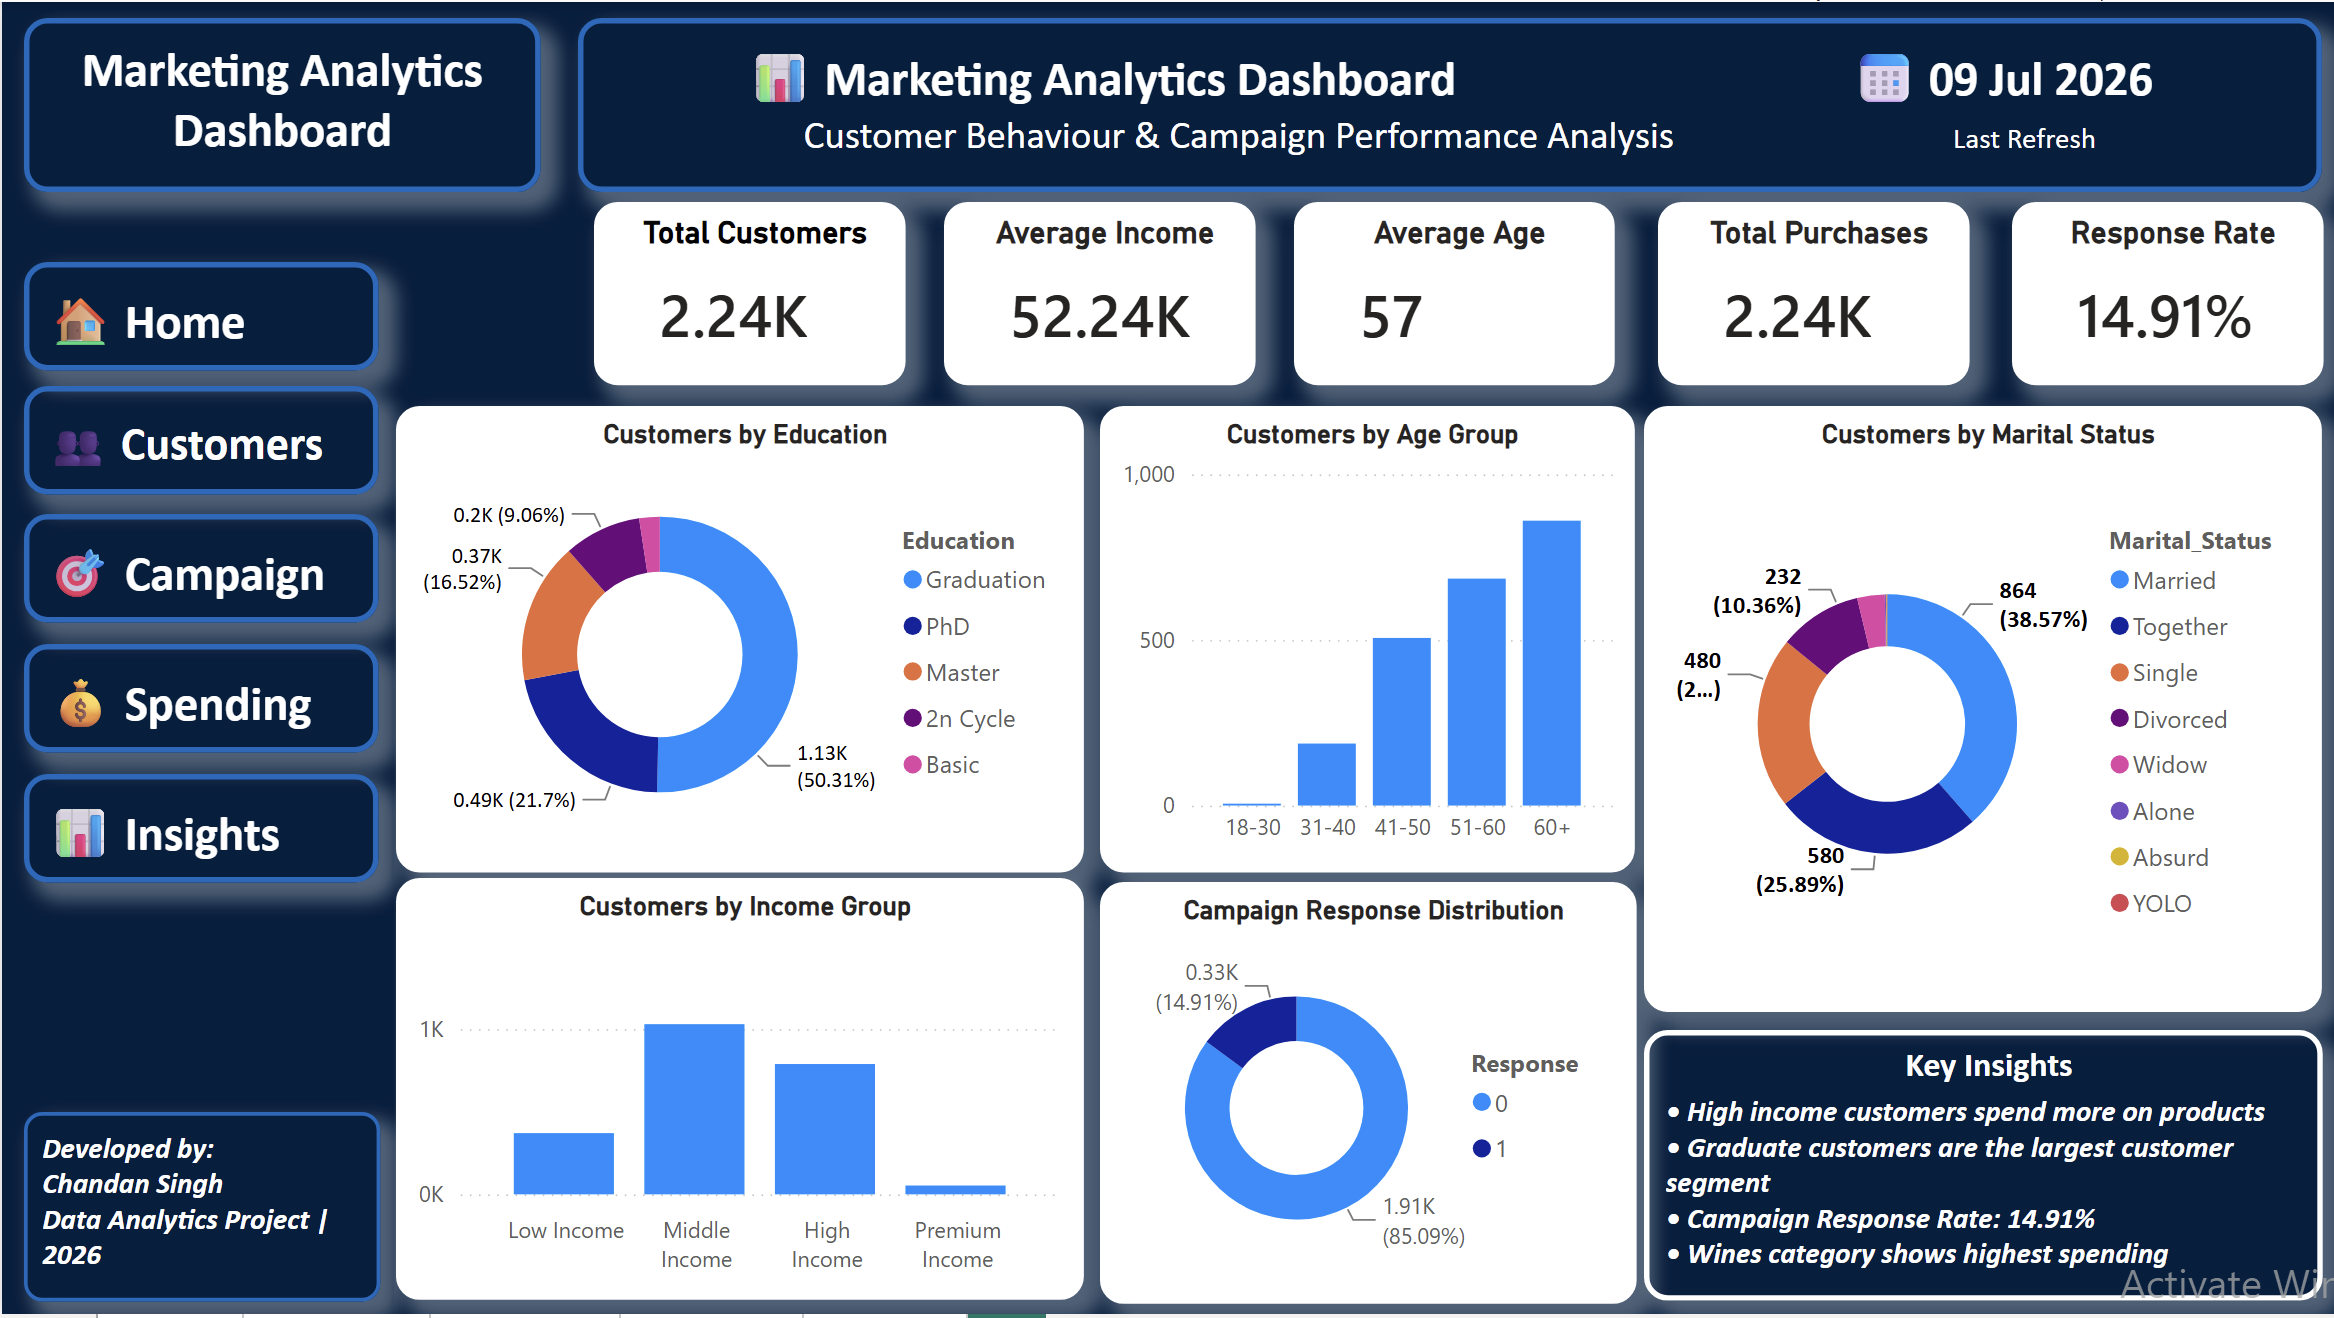

What the dashboard file says about the page in this screenshot:
{"tool":"powerbi","page":{"name":"Customer","canvas":[1280,720],"ordinal":1},"visuals":[{"type":"cardVisual","title":"Total Customers","fields":{"Data":["CountNonNull(marketing_campaign.Dt_Customer)"]},"box":[324.3,110.2,171,100.3],"z":0},{"type":"cardVisual","title":"Average Income","fields":{"Data":["Avg(marketing_campaign.Income)"]},"box":[517.4,110.2,171,100.3],"z":1000},{"type":"cardVisual","title":"Average Age","fields":{"Data":["marketing_campaign.Average Age"]},"box":[709.3,110.2,176,100.3],"z":2000},{"type":"cardVisual","title":"Total Purchases","fields":{"Data":["CountNonNull(marketing_campaign.Total_Purchases)"]},"box":[908.6,110.2,171,100.3],"z":3000},{"type":"cardVisual","title":"Response Rate","fields":{"Data":["marketing_campaign.Response Rate %"]},"box":[1103,110.2,171,100.3],"z":4000},{"type":"donutChart","title":"Campaign Response Distribution","fields":{"Category":["marketing_campaign.Response"],"Y":["CountNonNull(marketing_campaign.ID)"]},"box":[602.9,482.8,294.6,231.5],"z":5000},{"type":"donutChart","title":"Customers by Education","fields":{"Category":["marketing_campaign.Education"],"Y":["CountNonNull(marketing_campaign.ID)"]},"box":[216.6,221.6,377.6,256.2],"z":6000},{"type":"donutChart","title":"Customers by Marital Status","fields":{"Category":["marketing_campaign.Marital_Status"],"Y":["CountNonNull(marketing_campaign.ID)"]},"box":[901.2,221.6,378.8,333],"z":7000},{"type":"clusteredColumnChart","title":"Customers by Income Group","fields":{"Category":["marketing_campaign.Income Group"],"Y":["CountNonNull(marketing_campaign.ID)"]},"box":[216.6,481.5,377.6,231.5],"z":8000},{"type":"textbox","box":[315.7,8.7,956.9,95.3],"z":9000},{"type":"textbox","title":"Key Insights","box":[901.2,564.5,372.6,148.5],"z":10000},{"type":"shape","box":[0,141.9,215.4,578.1],"z":11000},{"type":"textbox","box":[12.4,8.7,283.5,95.3],"z":12000},{"type":"actionButton","box":[12.4,142.4,194.4,59.4],"z":13000},{"type":"actionButton","box":[12.4,210.4,194.4,59.4],"z":14000},{"type":"actionButton","box":[12.4,281,194.4,59.4],"z":15000},{"type":"actionButton","box":[12.4,352.8,194.4,59.4],"z":16000},{"type":"actionButton","box":[12.4,423.4,194.4,59.4],"z":17000},{"type":"textbox","box":[12.4,609.1,195.6,104],"z":18000},{"type":"columnChart","title":"Customers by Age Group","fields":{"Y":["CountNonNull(marketing_campaign.ID)"],"Category":["marketing_campaign.Age Group"]},"box":[602.9,221.6,293.4,256.2],"z":19000}]}

Visuals, with their boxes in screenshot pixels (x1, y1, x2, y2), scaled from the page's 1280x720 canvas onto the 2334x1318 screenshot:
"Total Customers" cardVisual: bbox(591, 202, 903, 385)
"Average Income" cardVisual: bbox(943, 202, 1255, 385)
"Average Age" cardVisual: bbox(1293, 202, 1614, 385)
"Total Purchases" cardVisual: bbox(1657, 202, 1969, 385)
"Response Rate" cardVisual: bbox(2011, 202, 2323, 385)
"Campaign Response Distribution" donutChart: bbox(1099, 884, 1637, 1308)
"Customers by Education" donutChart: bbox(395, 406, 1083, 875)
"Customers by Marital Status" donutChart: bbox(1643, 406, 2333, 1015)
"Customers by Income Group" clusteredColumnChart: bbox(395, 881, 1083, 1305)
textbox: bbox(576, 16, 2321, 190)
"Key Insights" textbox: bbox(1643, 1033, 2323, 1305)
shape: bbox(0, 260, 393, 1317)
textbox: bbox(23, 16, 540, 190)
actionButton: bbox(23, 261, 377, 369)
actionButton: bbox(23, 385, 377, 494)
actionButton: bbox(23, 514, 377, 623)
actionButton: bbox(23, 646, 377, 755)
actionButton: bbox(23, 775, 377, 884)
textbox: bbox(23, 1115, 379, 1305)
"Customers by Age Group" columnChart: bbox(1099, 406, 1634, 875)
